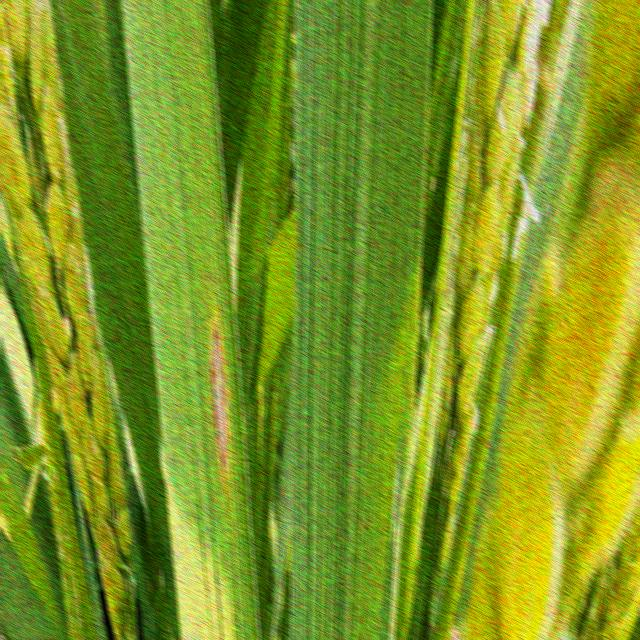LEAF BLAST: (209, 314, 229, 480), (219, 631, 224, 640)
